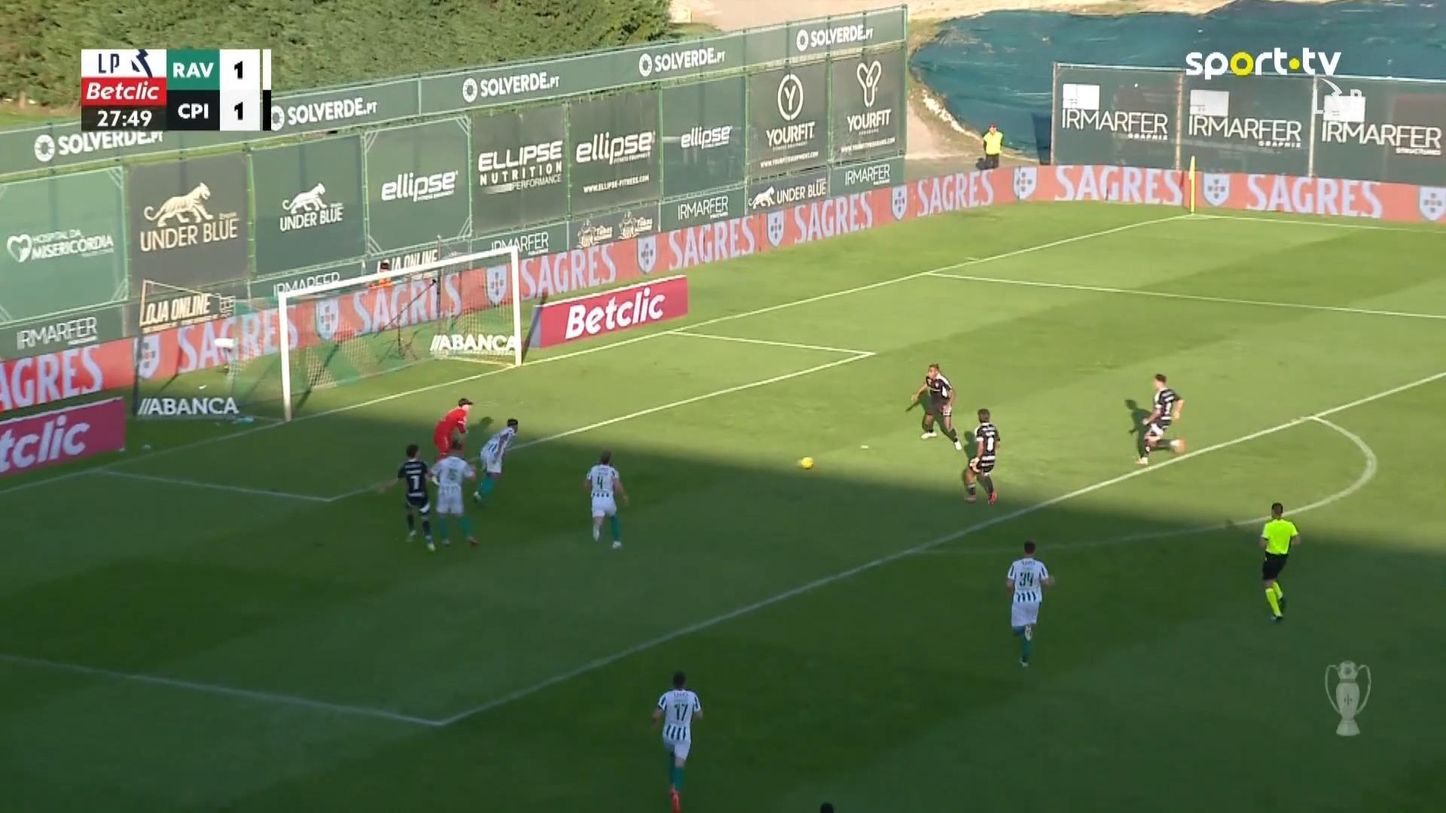ball: (798, 456, 813, 470)
goalkeeper: (432, 397, 473, 461)
player: (650, 670, 703, 811), (377, 443, 438, 551), (1005, 539, 1054, 668), (428, 439, 480, 547), (905, 362, 962, 449), (582, 449, 629, 549), (1134, 373, 1185, 465), (471, 417, 519, 504), (961, 407, 1001, 505)
referee: (1258, 501, 1300, 621)
